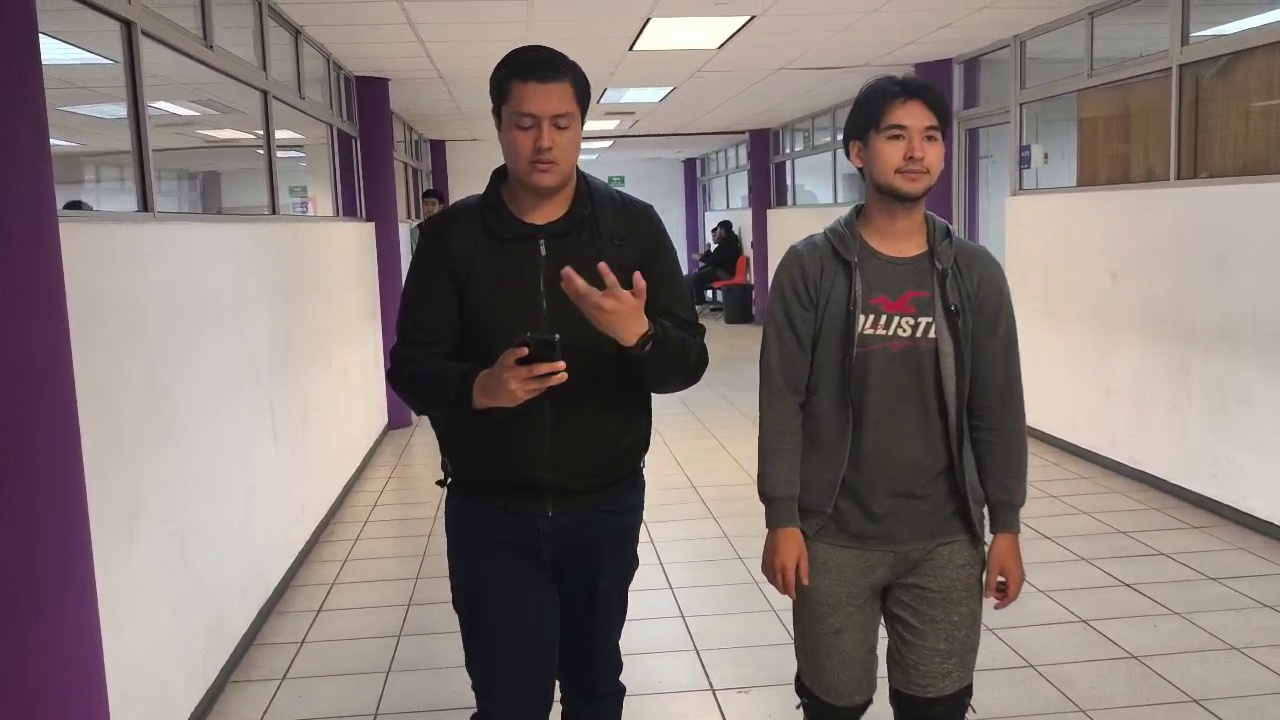mixto2: (511, 322, 568, 388)
